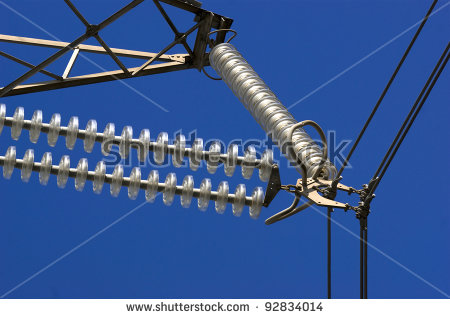isolator: (1, 103, 274, 218), (208, 42, 337, 184)
